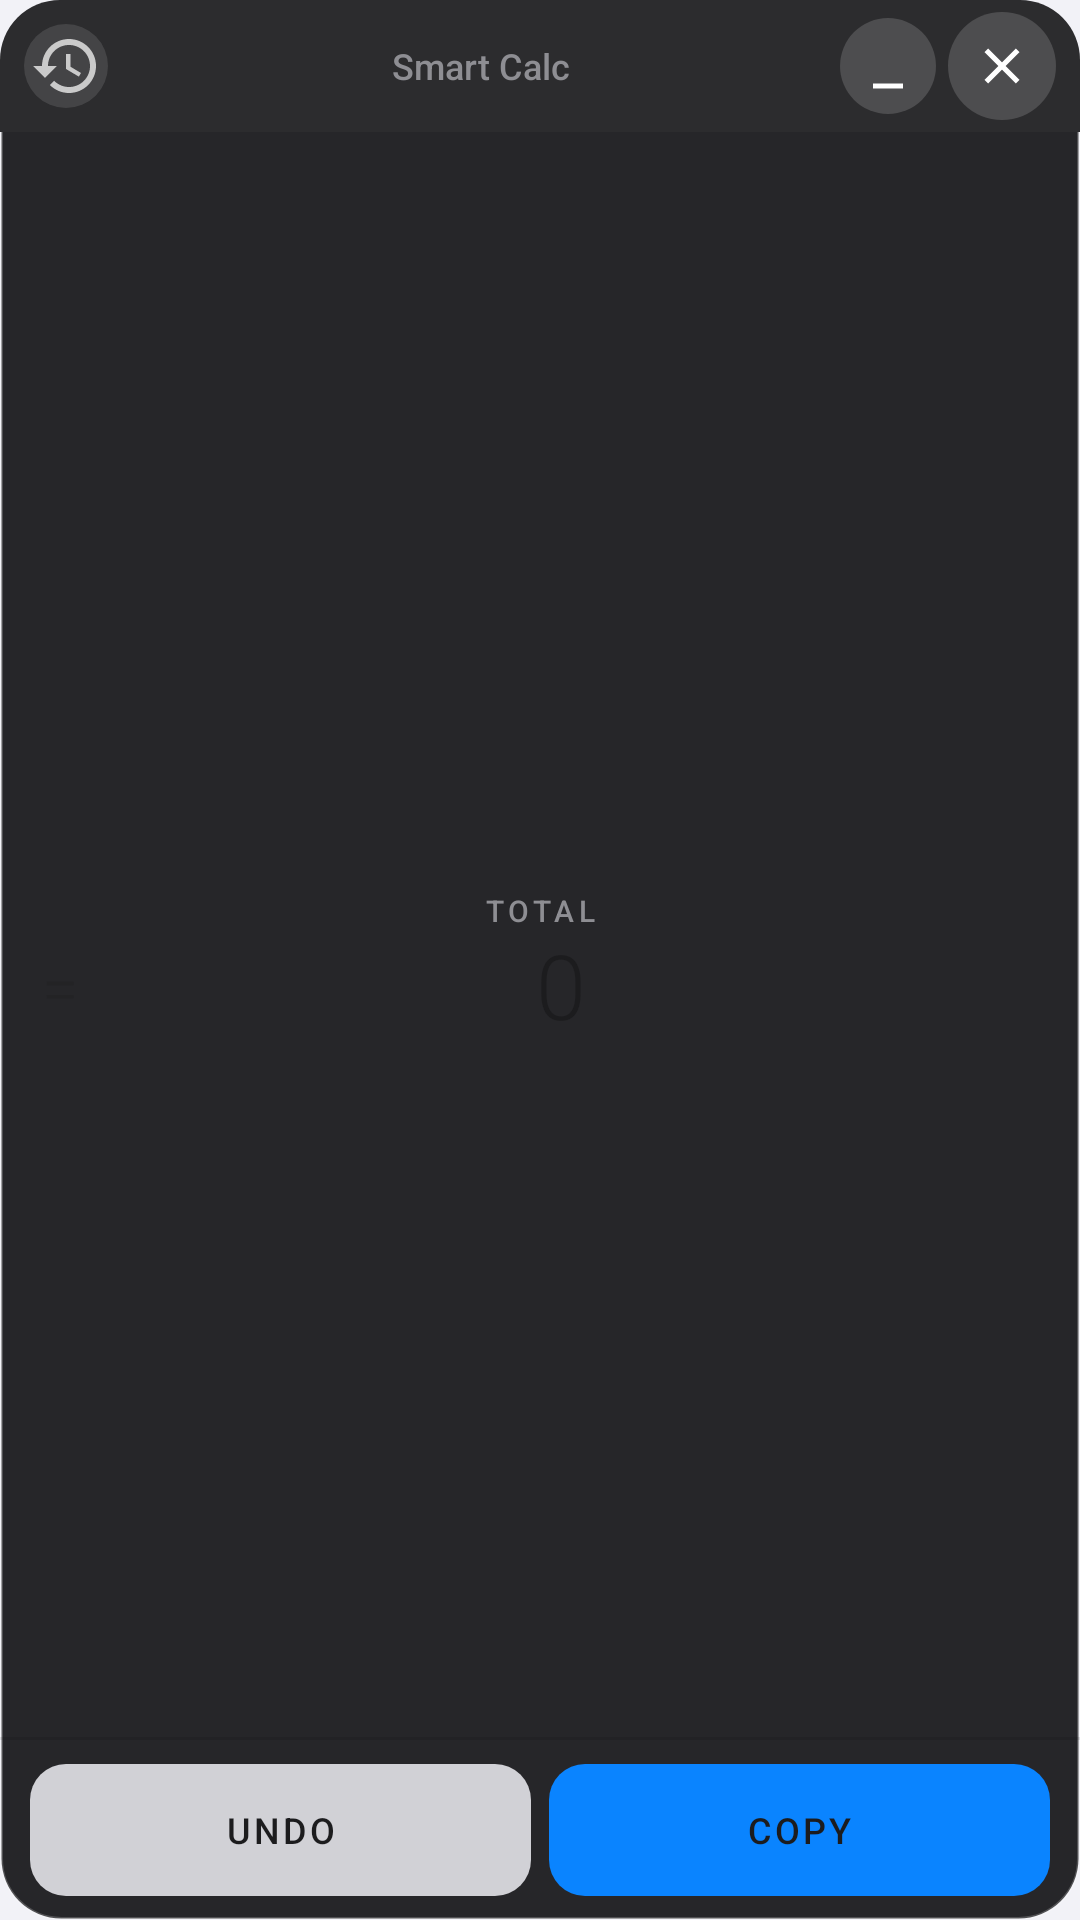

Screen size 1080px x 1920px. Icon name, then its box in pixels as region(x1, y1, x2, y2):
Close: region(948, 12, 1056, 120)
History: region(24, 24, 108, 108)
Minimize: region(840, 18, 936, 114)
